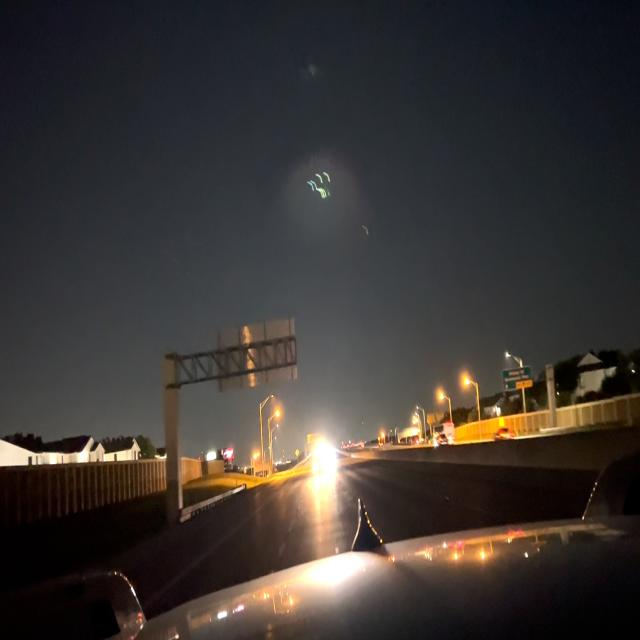back-of-sign: (215, 313, 297, 392)
